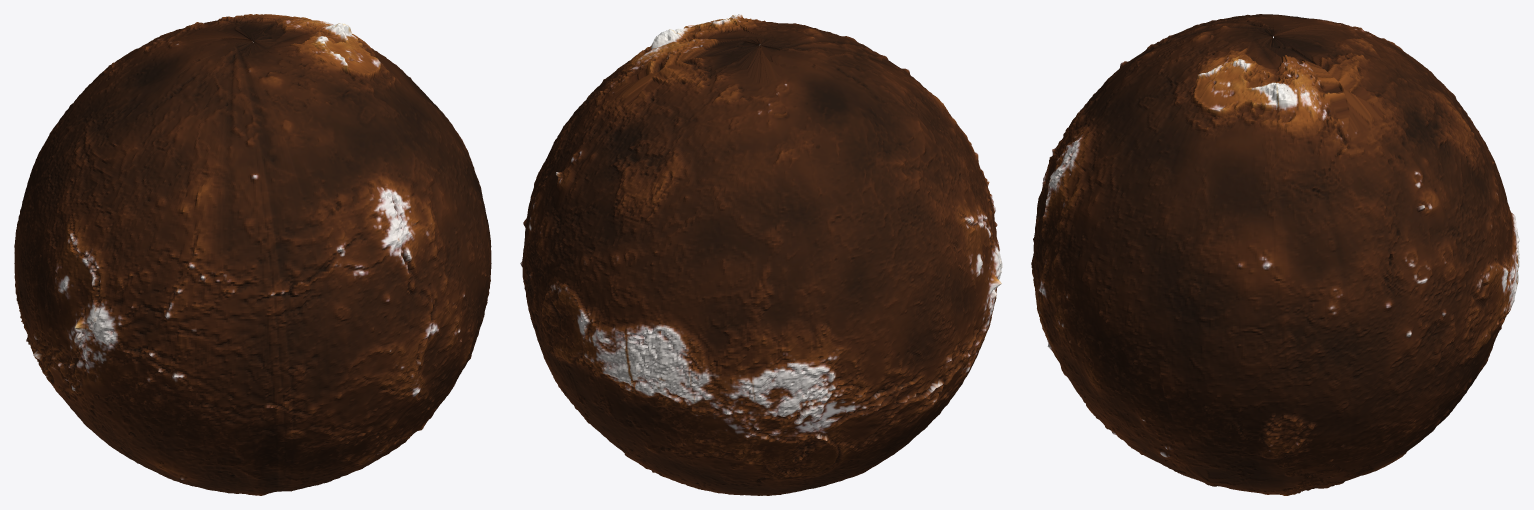
Rendered from venus_globe.glb.
The picture shows the model from 3 angles, left to right: view 1: azimuth 30°, elevation 25°; view 2: azimuth 150°, elevation 25°; view 3: azimuth 270°, elevation 25°; orthographic projection.
Parts seen in each view (by area): view 1: geometry_0; view 2: geometry_0; view 3: geometry_0.
Boxes of the visible parts, left/top/right/bottom form: geometry_0: left=14, top=14, right=491, bottom=495; geometry_0: left=520, top=14, right=1002, bottom=495; geometry_0: left=1031, top=14, right=1519, bottom=495.
Bounding box in the file's own units: 2.03 × 2.01 × 2.05.
1 material, 1 textured.
